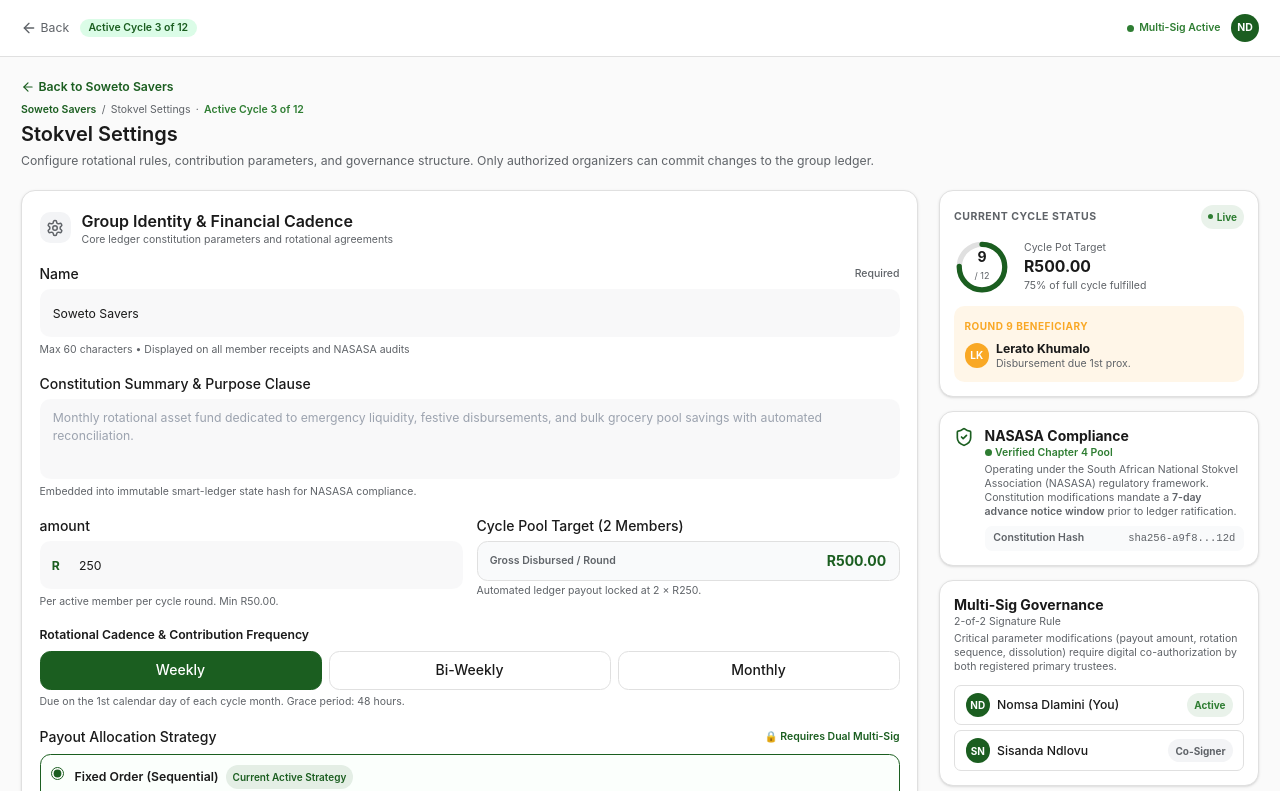
T-S12-1 Stokvel Settings (S12) › shows the exact validation messages
This screenshot has width=1280, height=791.
Clear the field labelled "Name" at [470, 313], box [40,289,900,337]
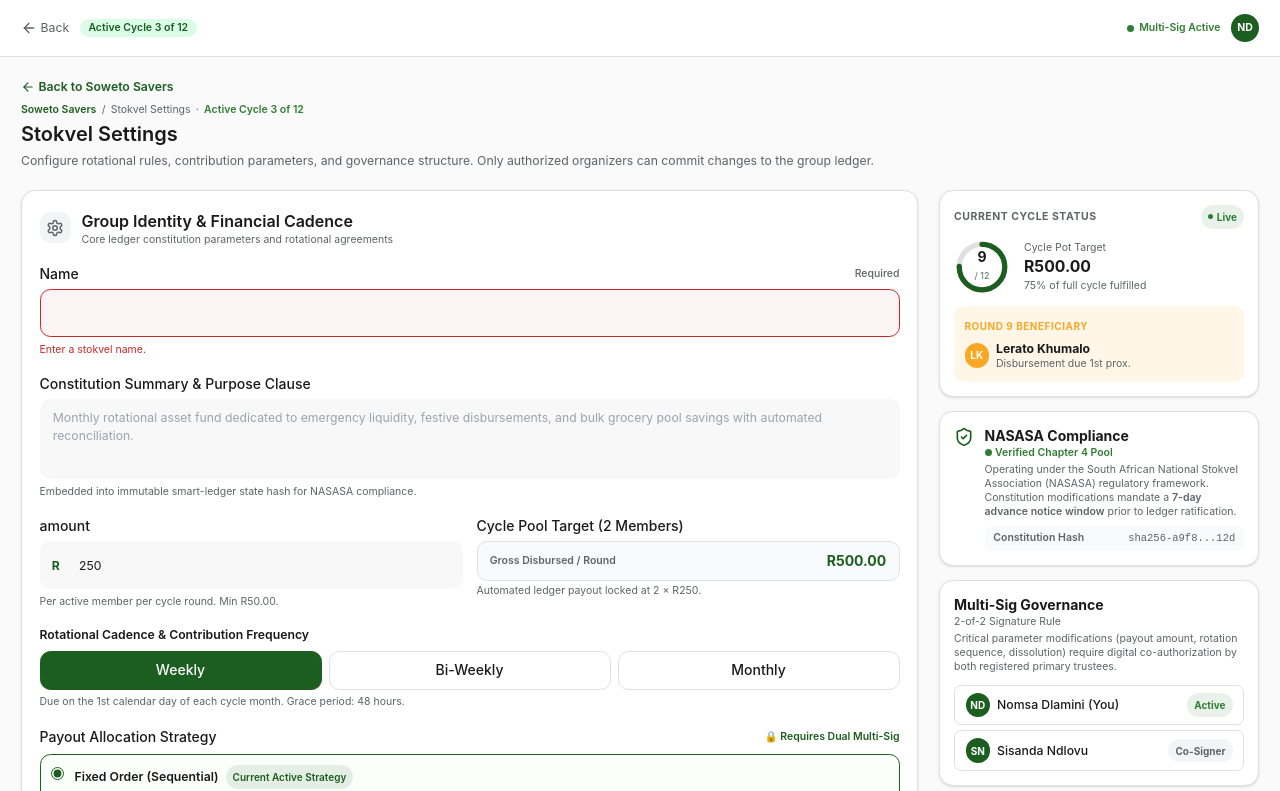
Expected: the text "Enter a stokvel name." is shown, [40,342,146,356]
Replace the text in the number field labelled "amount" with "0" at [251, 565], box [40,541,462,589]
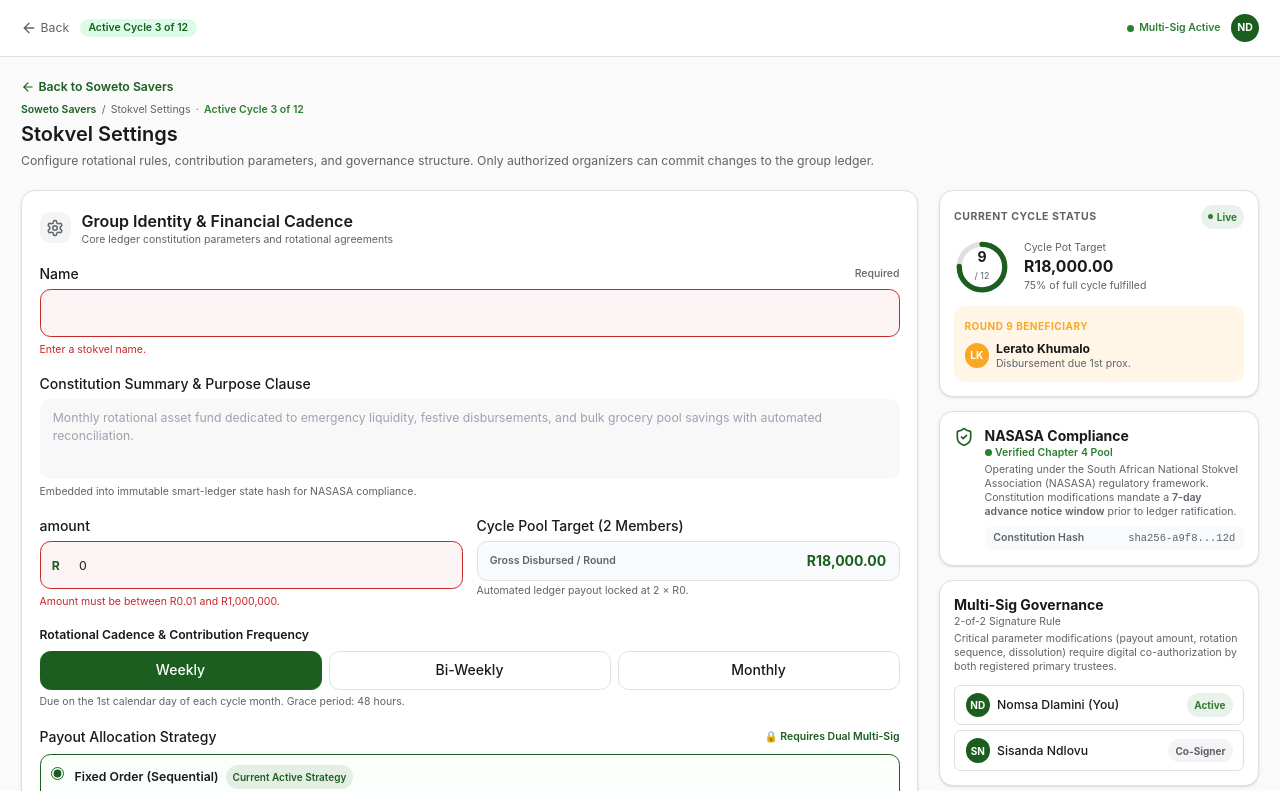
Expected: the text "Amount must be between R0.01 and R1,000,000." is shown, [40,594,280,608]
